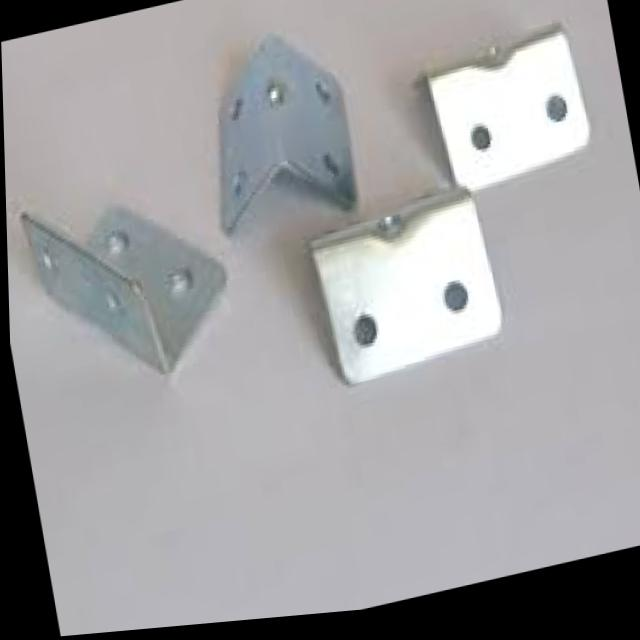holes: (155, 264, 202, 303), (100, 229, 131, 266), (348, 317, 376, 353), (438, 284, 465, 321), (541, 101, 568, 135), (265, 82, 286, 118), (466, 131, 490, 160)
